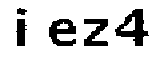4: (114, 3, 151, 50)
e: (44, 17, 77, 50)
i: (11, 4, 31, 49)
z: (82, 16, 109, 48)
